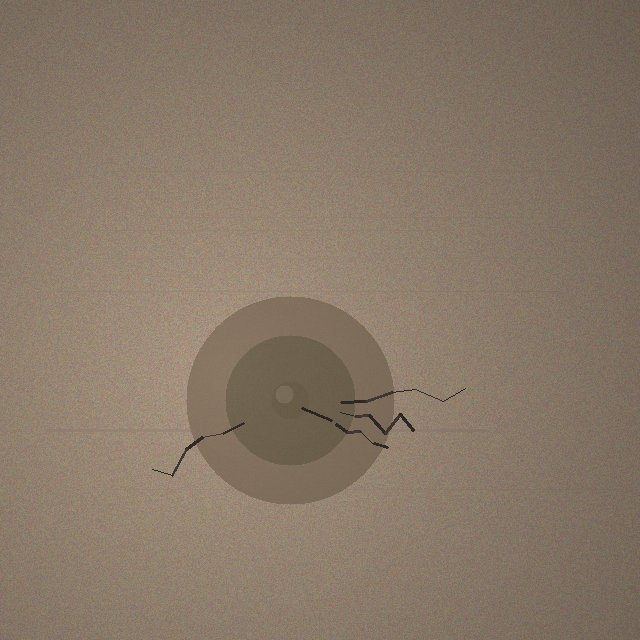crack: (186, 296, 394, 504)
